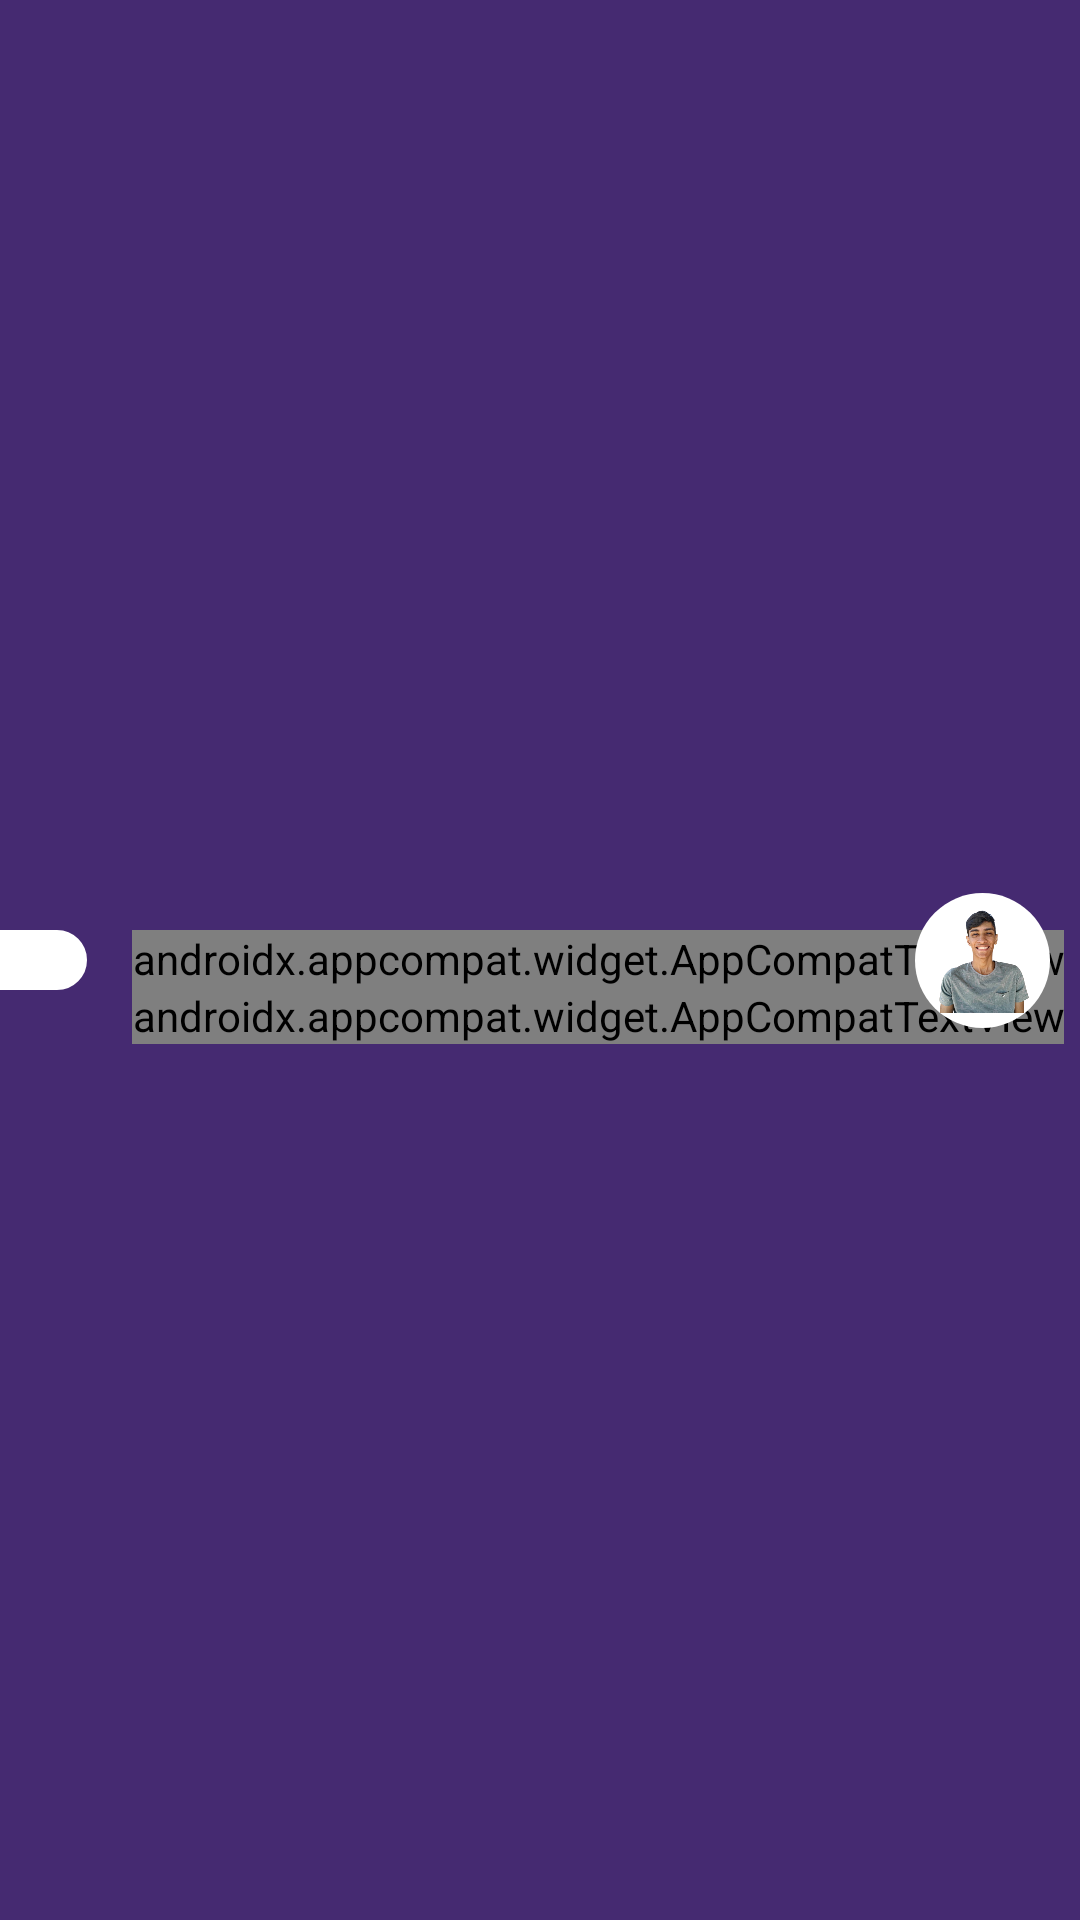

Icon click points for this 1080px×1920px phone screenshot, format (x=x, y=y):
perfil: (x=982, y=960)
